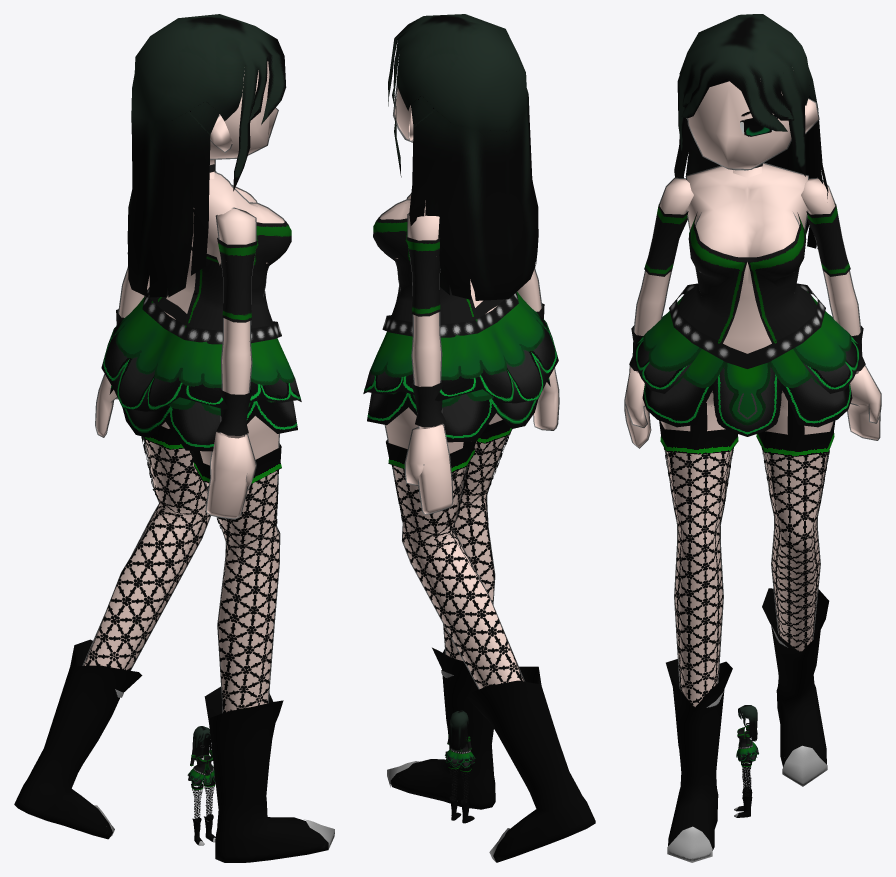
The model's file is anime_girl_green.glb.
3 renders of one model, left to right at view 1: azimuth 30°, elevation 25°; view 2: azimuth 150°, elevation 25°; view 3: azimuth 270°, elevation 25°, orthographic. The views are drawn at different scales.
Visible parts, largest first — view 1: Cube, Cube.003; view 2: Cube, Cube.003; view 3: Cube, Cube.003.
Part boxes in pixels (left/top/right/bottom): Cube: left=14, top=14, right=334, bottom=862; Cube.003: left=187, top=726, right=215, bottom=845; Cube: left=363, top=14, right=595, bottom=862; Cube.003: left=445, top=710, right=475, bottom=823; Cube: left=624, top=14, right=881, bottom=862; Cube.003: left=734, top=705, right=758, bottom=817.
Bounding box in the file's own units: 5.06 × 15.01 × 4.41.
Materials: 7 (3 with a texture image).
